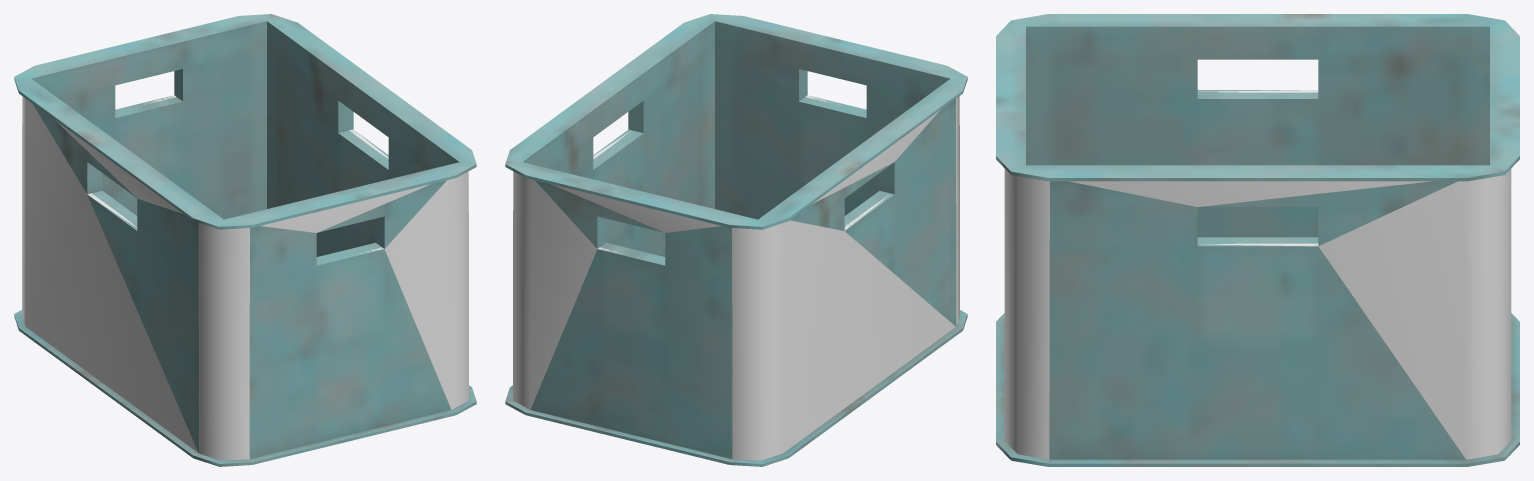
The model's file is objects_un_dlc1_t10_crate01.gltf.
3 views of the same model, side by side, from view 1: azimuth 30°, elevation 25°; view 2: azimuth 150°, elevation 25°; view 3: azimuth 270°, elevation 25° (orthographic). The views are drawn at different scales.
Visible parts, largest first — view 1: um_objects_un_dlc1_t10_crate01_model_lod0Shape:objects_un_dl (×2), um_objects_un_dlc1_t10_crate01_model_lod1Shape:objects_un_dl; view 2: um_objects_un_dlc1_t10_crate01_model_lod0Shape:objects_un_dl (×2), um_objects_un_dlc1_t10_crate01_model_lod1Shape:objects_un_dl; view 3: um_objects_un_dlc1_t10_crate01_model_lod0Shape:objects_un_dl (×2), um_objects_un_dlc1_t10_crate01_model_lod1Shape:objects_un_dl.
Boxes of the visible parts, x1=… form: um_objects_un_dlc1_t10_crate01_model_lod0Shape:objects_un_dl (×2): x1=14, y1=14, x2=476, y2=466; um_objects_un_dlc1_t10_crate01_model_lod1Shape:objects_un_dl: x1=31, y1=21, x2=459, y2=262; um_objects_un_dlc1_t10_crate01_model_lod0Shape:objects_un_dl (×2): x1=505, y1=14, x2=967, y2=466; um_objects_un_dlc1_t10_crate01_model_lod1Shape:objects_un_dl: x1=522, y1=21, x2=950, y2=262; um_objects_un_dlc1_t10_crate01_model_lod0Shape:objects_un_dl (×2): x1=996, y1=14, x2=1519, y2=466; um_objects_un_dlc1_t10_crate01_model_lod1Shape:objects_un_dl: x1=1015, y1=22, x2=1500, y2=243.
Size of what is drawn, in the model's own units: 0.4886 by 0.4019 by 0.66.
Materials: 2 (1 with a texture image).
